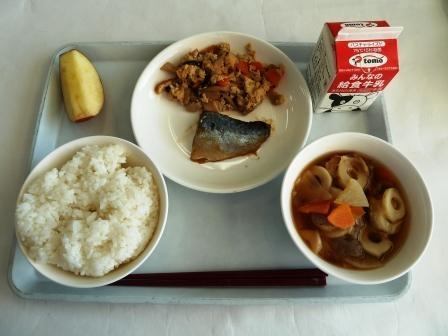Apple: (43, 40, 112, 125)
Fish: (177, 103, 273, 173)
Milk: (303, 11, 398, 112)
Rice: (18, 133, 160, 285)
Soups: (267, 138, 434, 278)
cooked food based on meat: (150, 35, 282, 111)
